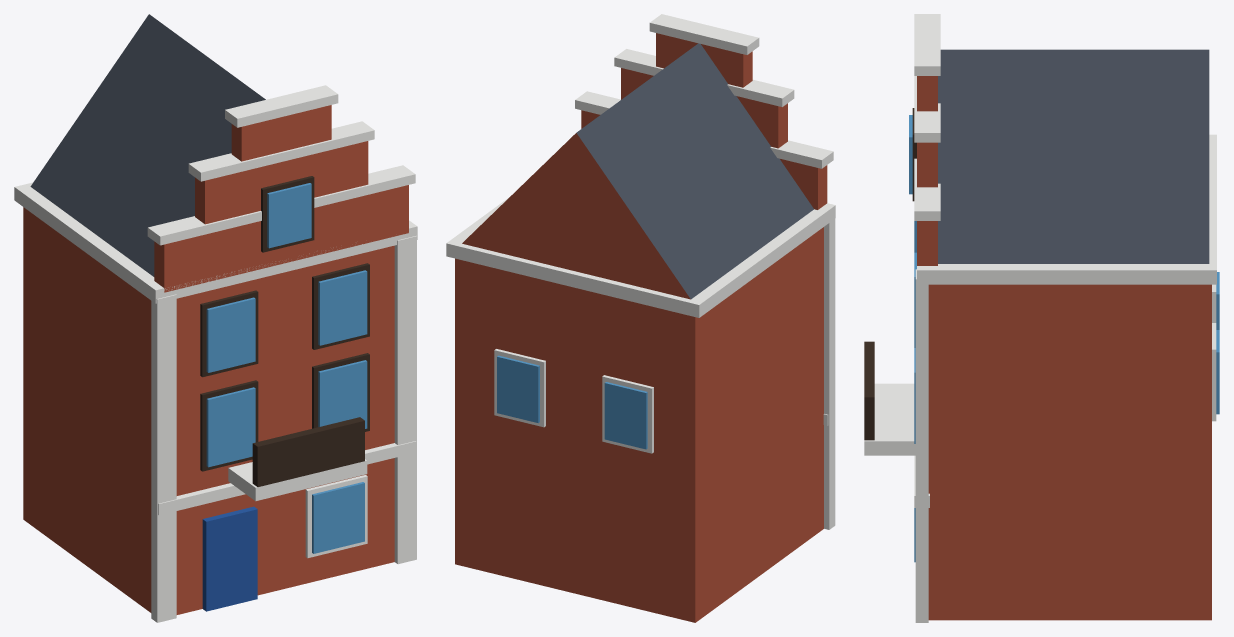
The model's file is 41_kgd_brick_balcony_1.obj.
3 views of the same model, side by side, from view 1: azimuth 30°, elevation 25°; view 2: azimuth 150°, elevation 25°; view 3: azimuth 270°, elevation 25° (orthographic). The views are drawn at different scales.
Parts seen in each view (by area): view 1: 41_kgd_brick_balcony_1; view 2: 41_kgd_brick_balcony_1; view 3: 41_kgd_brick_balcony_1.
Boxes of the visible parts, x1,y1,x2,y2 form: 41_kgd_brick_balcony_1: (14, 14, 417, 622); 41_kgd_brick_balcony_1: (446, 14, 835, 622); 41_kgd_brick_balcony_1: (864, 14, 1219, 622).
Size of the model in its own units: 1.22 by 2.16 by 1.35.
